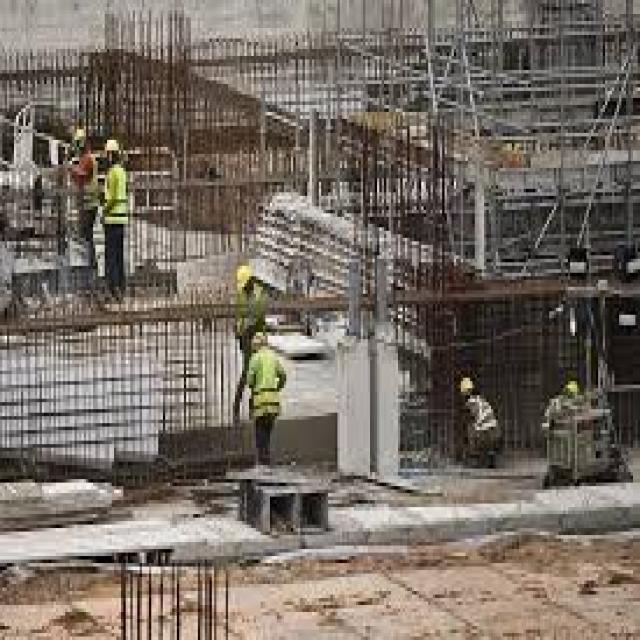Reflective-Jacket: (240, 350, 291, 430), (230, 273, 277, 343), (461, 392, 505, 458), (100, 164, 135, 231)
Safety-Helmet: (230, 252, 261, 294), (456, 371, 482, 398), (247, 325, 274, 350), (100, 133, 123, 161)
